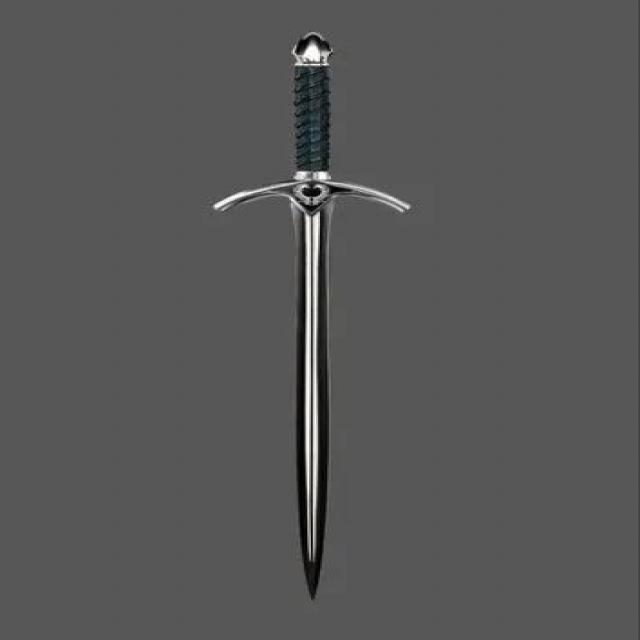sword: (205, 30, 420, 615)
